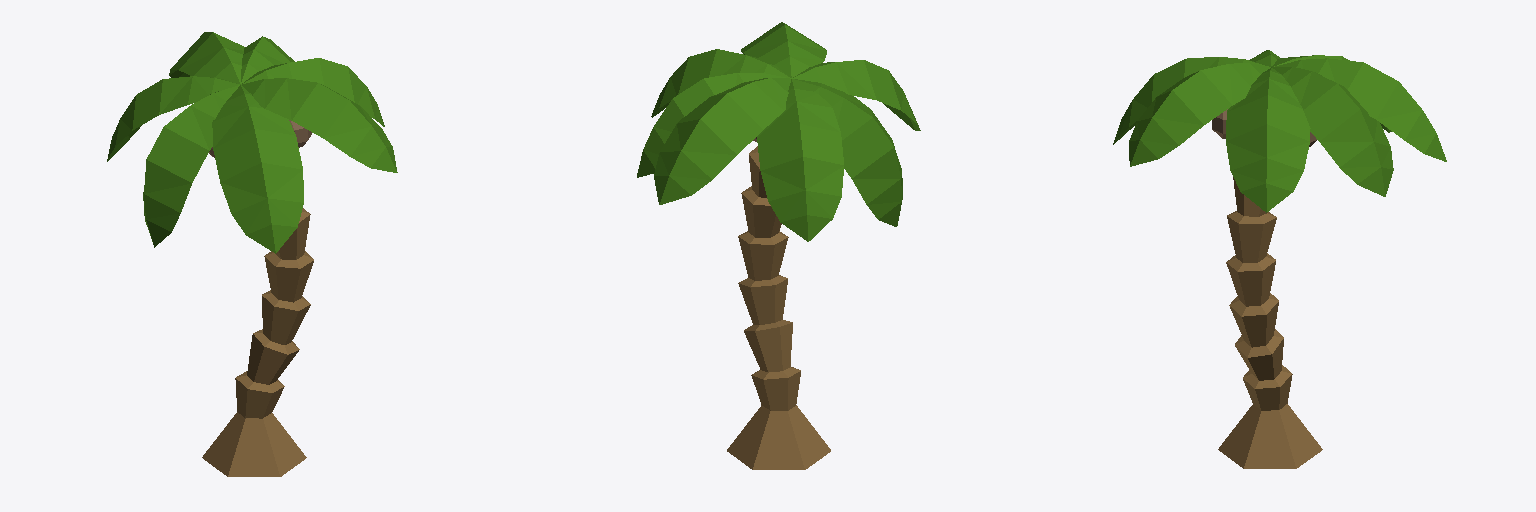
Rendered from Beach_Prop_Tree_Palm_2.obj.
The picture shows the model from 3 angles: view 1: azimuth 30°, elevation 25°; view 2: azimuth 150°, elevation 25°; view 3: azimuth 270°, elevation 25°; orthographic projection.
Parts seen in each view (by area): view 1: object14, object5, object10, object13, object12, object8, object6, object9; view 2: object14, object12, object6, object13, object5, object9, object8, object10; view 3: object14, object8, object9, object10, object6, object5.
Boxes of the visible parts, <box> form: object14: <box>202,208,313,476</box>; object5: <box>212,85,303,253</box>; object10: <box>242,78,397,172</box>; object13: <box>143,85,239,247</box>; object12: <box>107,76,239,161</box>; object8: <box>241,58,384,126</box>; object6: <box>169,32,244,84</box>; object9: <box>241,36,294,83</box>; object14: <box>727,146,830,469</box>; object12: <box>757,79,843,241</box>; object6: <box>654,78,790,204</box>; object13: <box>793,79,902,226</box>; object5: <box>792,60,920,130</box>; object9: <box>637,73,790,177</box>; object8: <box>651,49,791,117</box>; object10: <box>741,22,826,77</box>; object14: <box>1218,177,1322,468</box>; object8: <box>1226,67,1310,212</box>; object9: <box>1272,67,1393,196</box>; object10: <box>1129,63,1270,166</box>; object6: <box>1275,58,1446,161</box>; object5: <box>1113,57,1268,144</box>.
Bounding box in the file's own units: 2.69 × 4.12 × 3.18.